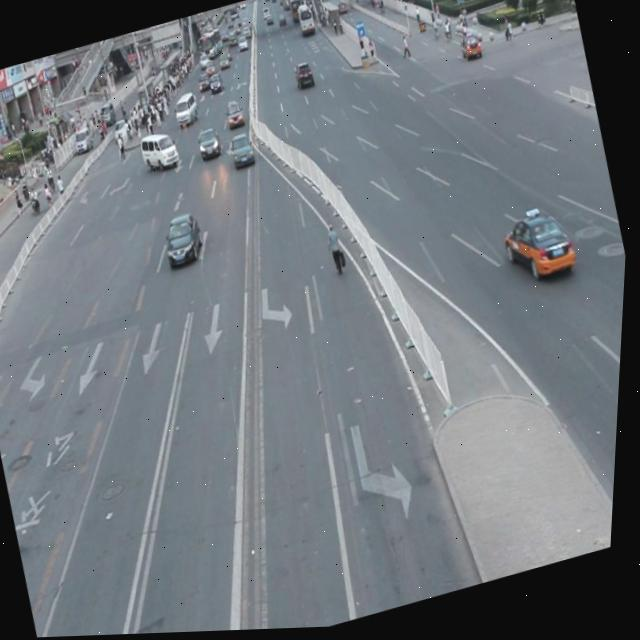car: (498, 207, 581, 290), (160, 210, 211, 272), (227, 131, 259, 172)
